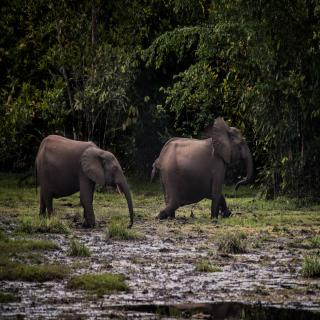Elephant: (150, 115, 258, 228), (29, 126, 137, 229)
